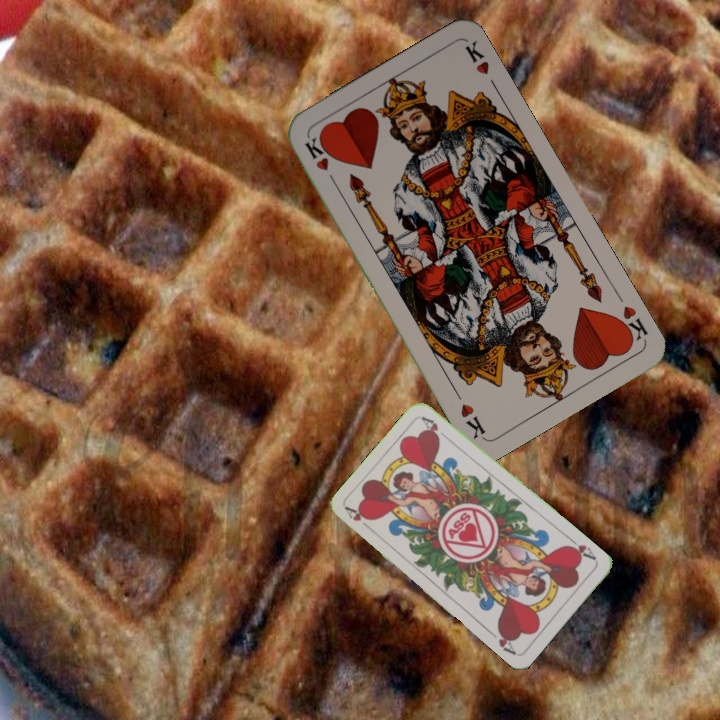HA: (561, 533, 599, 563), (341, 503, 376, 534)
HK: (301, 133, 340, 188), (611, 301, 651, 348)
